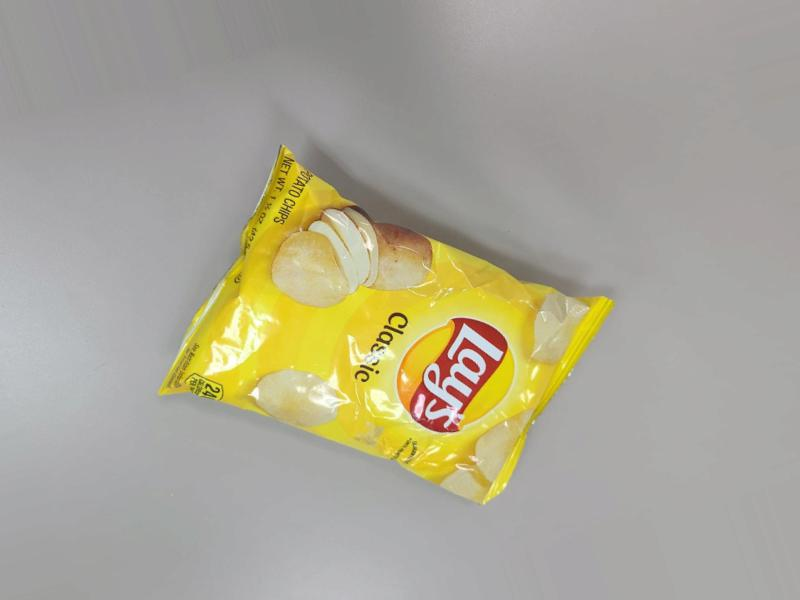lays: (188, 140, 667, 537)
